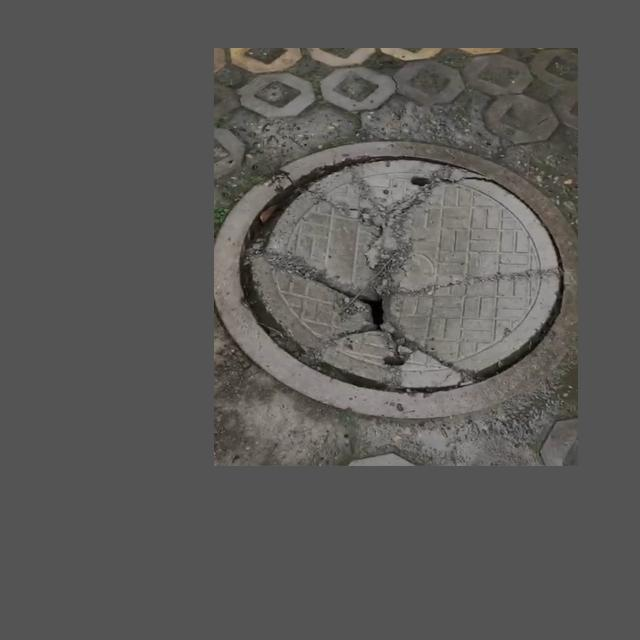broke: (222, 145, 567, 421)
